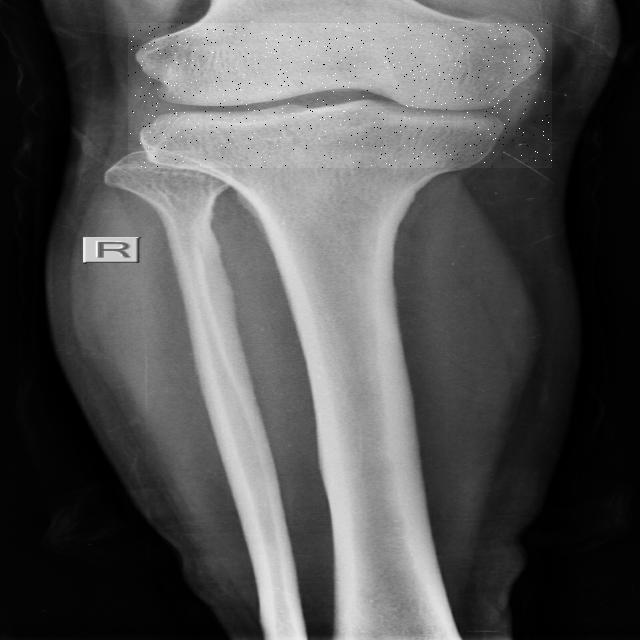normal: (128, 23, 552, 168)
